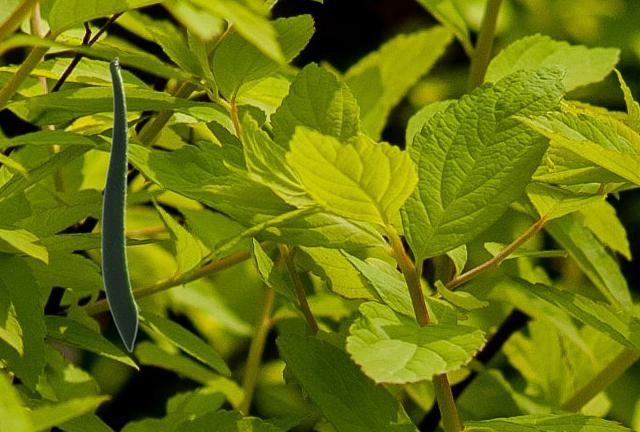french_bean: (100, 56, 138, 352)
